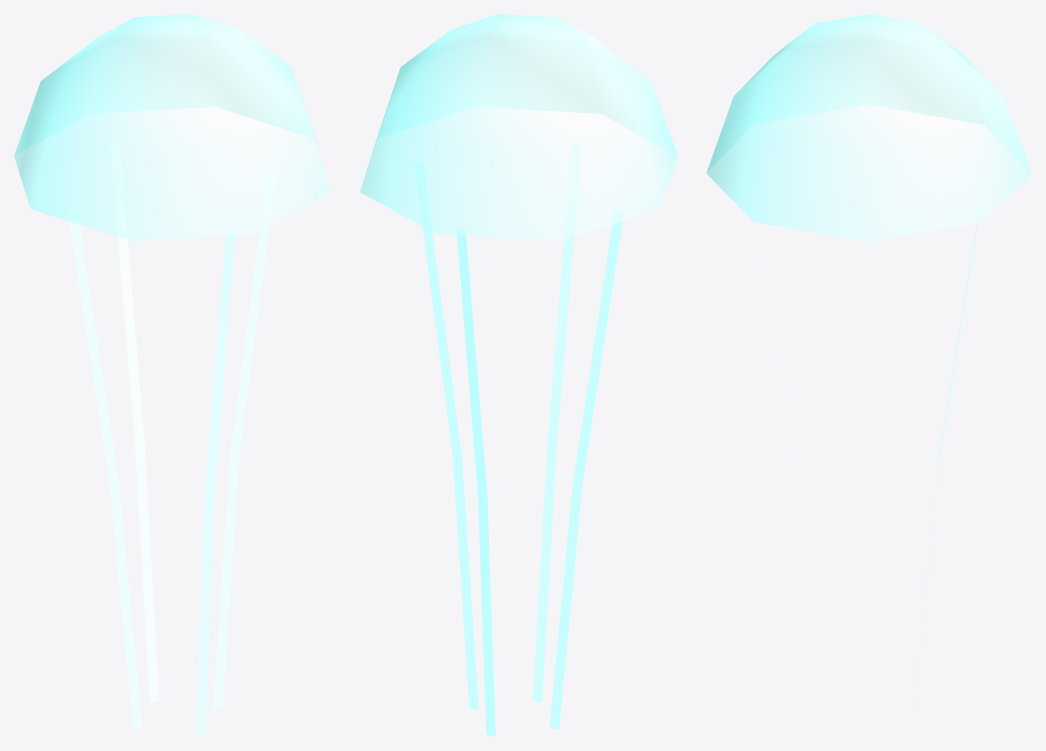
The model's file is jelly_far.glb.
3 renders of one model, left to right at view 1: azimuth 30°, elevation 25°; view 2: azimuth 150°, elevation 25°; view 3: azimuth 270°, elevation 25°, orthographic.
Parts seen in each view (by area): view 1: jelly_far; view 2: jelly_far; view 3: jelly_far.
Part boxes in pixels (<box>): jelly_far: <box>14,14,331,736</box>; jelly_far: <box>360,14,677,736</box>; jelly_far: <box>706,14,1031,717</box>.
Bounding box in the file's own units: 0.7157 × 1.66 × 0.7157.
